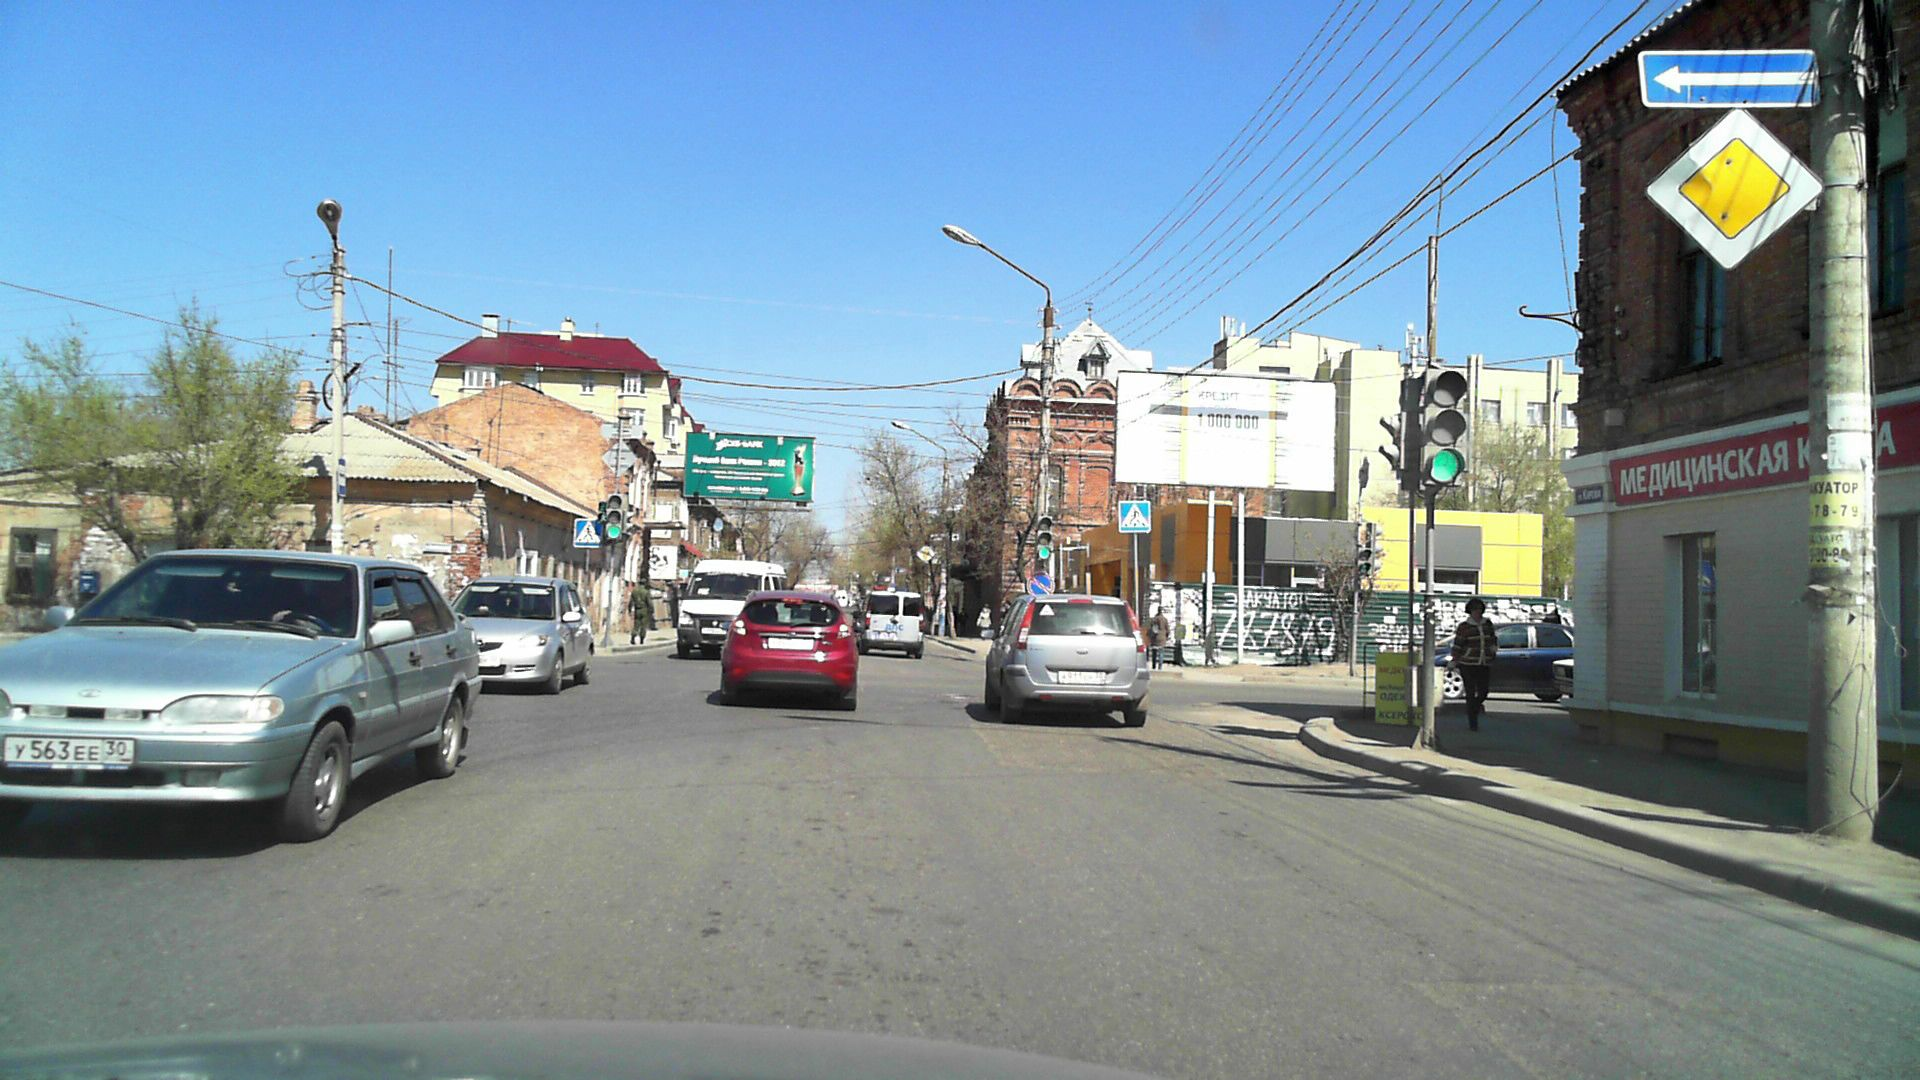One-Way Traffic: (1640, 51, 1818, 105)
Pedestrian Crossing: (1120, 501, 1150, 531)
